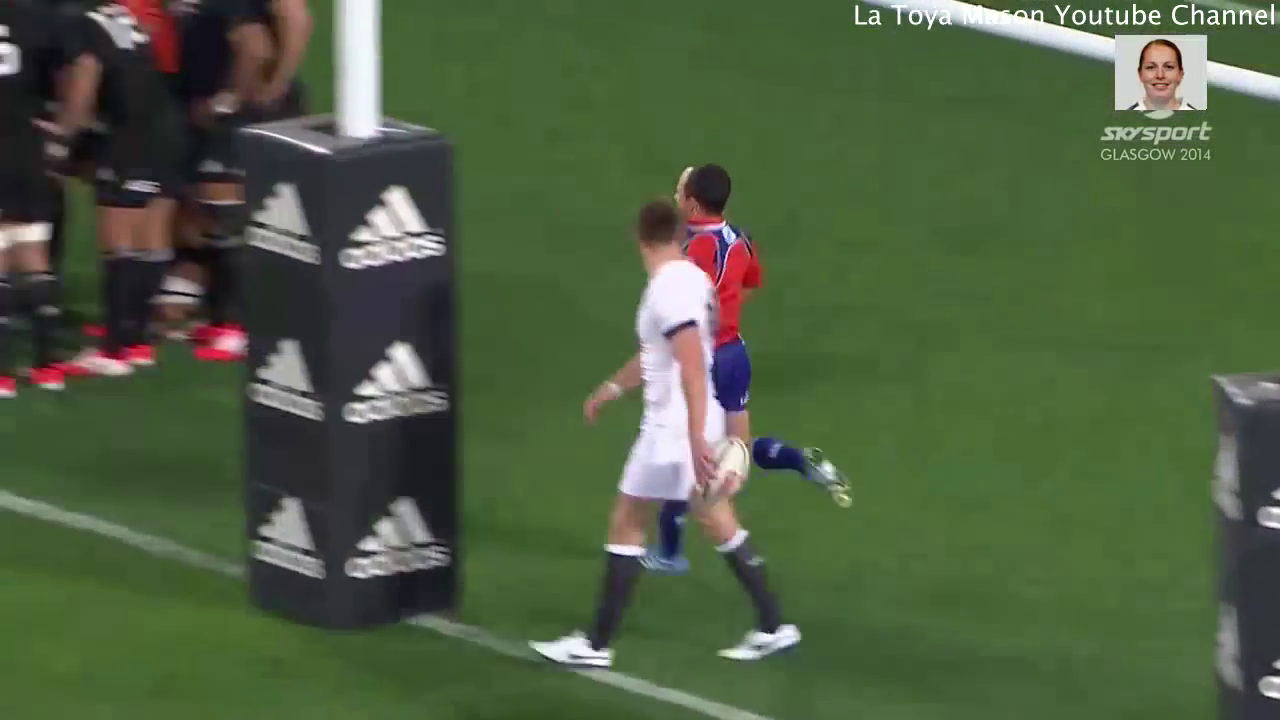ball: (679, 410, 783, 543)
player: (522, 180, 817, 688), (628, 138, 862, 590)
